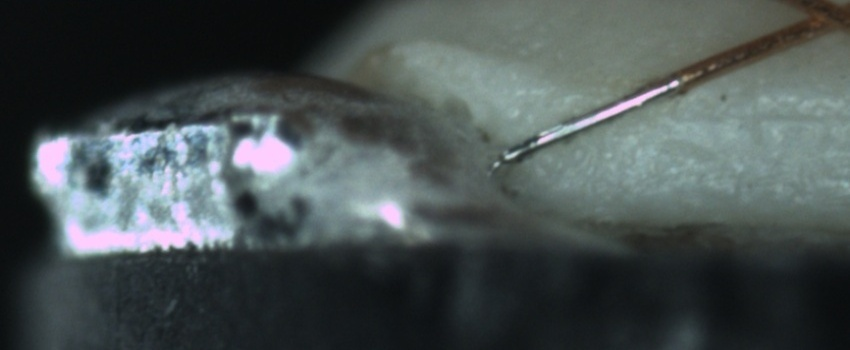CL: (773, 0, 848, 44)
DL: (672, 81, 846, 149)
TS: (489, 76, 677, 168)
